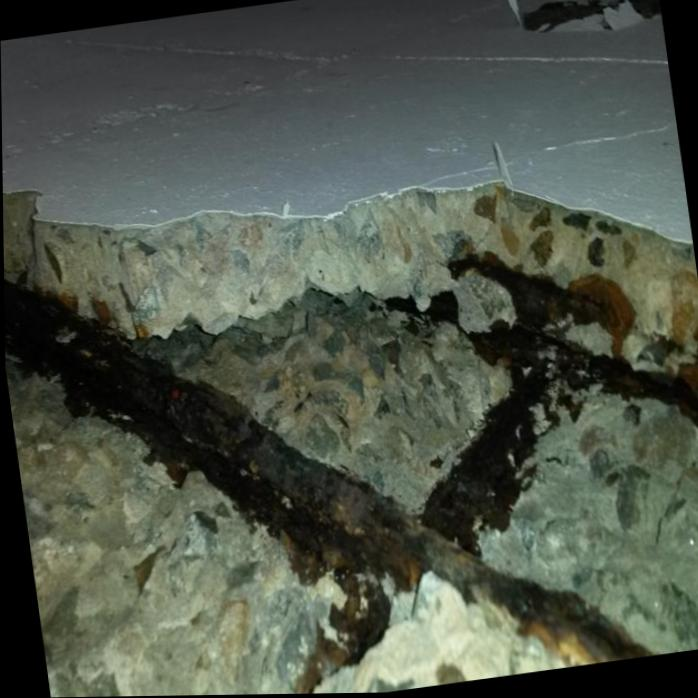damage: (2, 182, 698, 698)
